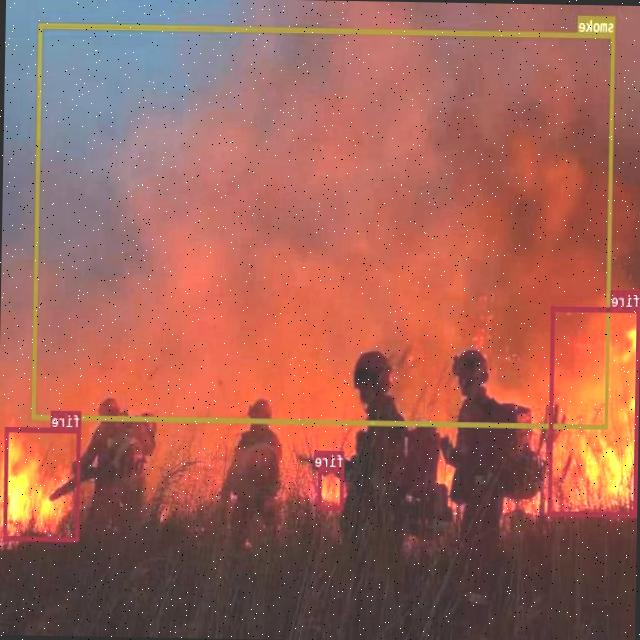fire: (548, 306, 640, 516), (3, 426, 81, 540), (318, 466, 344, 508)
smoke: (32, 21, 615, 428)
